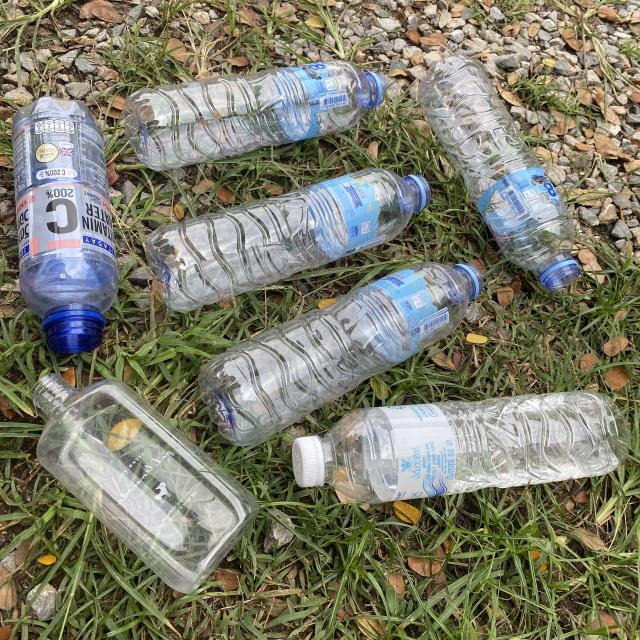plastik: (199, 262, 482, 446), (31, 374, 259, 592), (145, 169, 430, 311), (292, 391, 630, 504), (419, 55, 579, 290), (124, 60, 386, 171), (12, 96, 119, 352)
